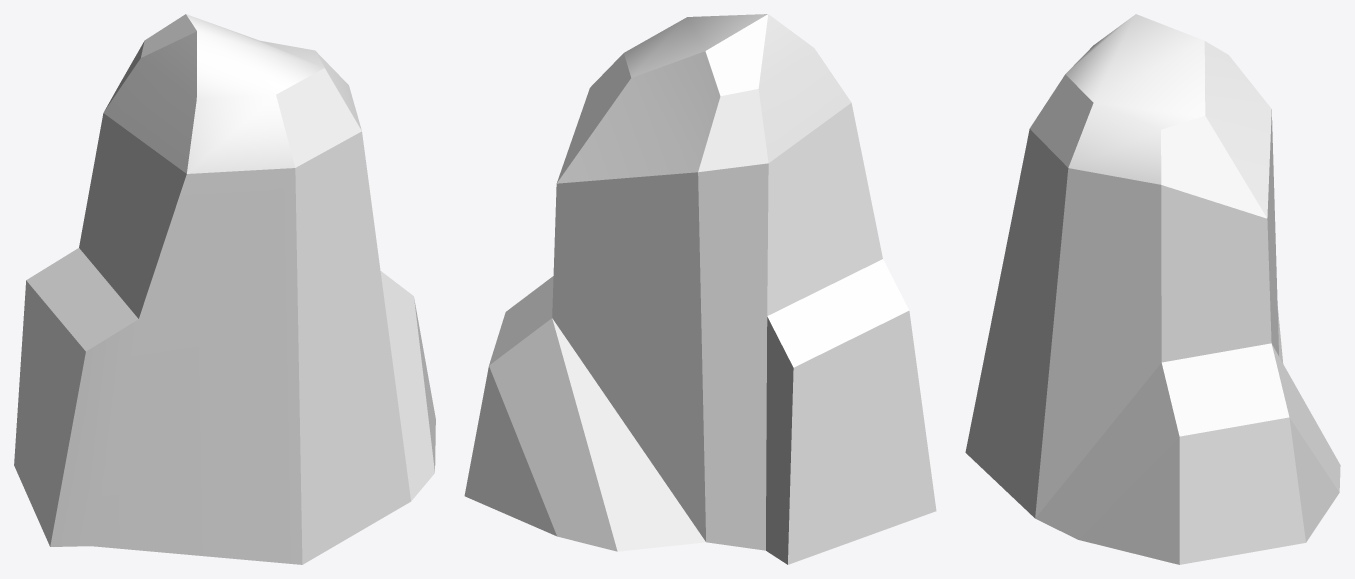
Rendered from rock4.fbx.
3 renders of one model, left to right at view 1: azimuth 30°, elevation 25°; view 2: azimuth 150°, elevation 25°; view 3: azimuth 270°, elevation 25°, orthographic. The views are drawn at different scales.
Visible parts, largest first — view 1: Object083; view 2: Object083; view 3: Object083.
Boxes of the visible parts, bbox=[...] form: Object083: bbox=[14, 14, 435, 564]; Object083: bbox=[464, 14, 936, 564]; Object083: bbox=[965, 14, 1340, 564].
Bounding box in the file's own units: 101 × 108 × 84.48.
